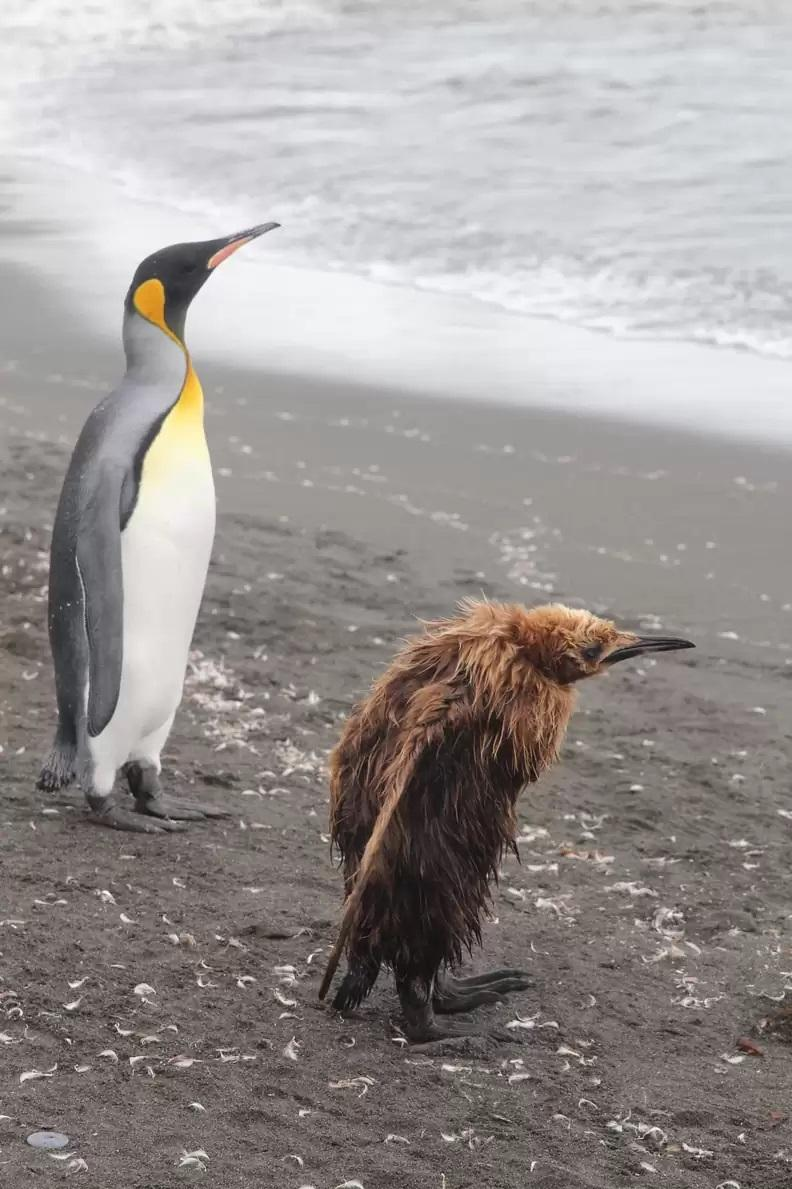king: (0, 205, 312, 858)
